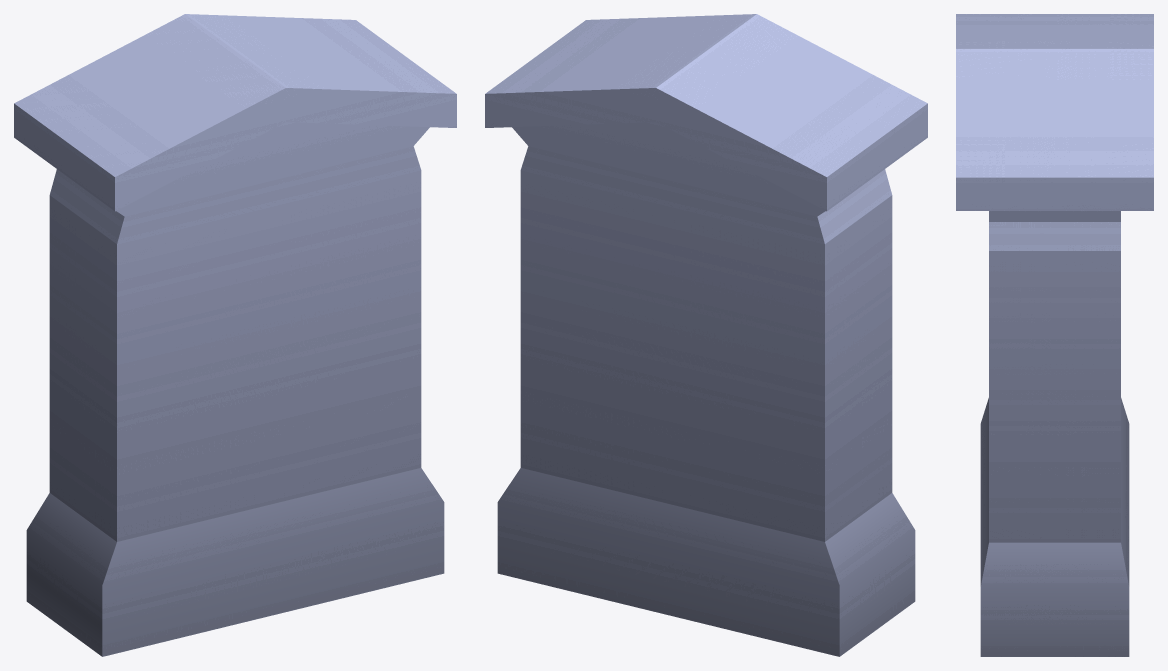
File: gravestone-roof.glb
The picture shows the model from 3 angles, left to right: view 1: azimuth 30°, elevation 25°; view 2: azimuth 150°, elevation 25°; view 3: azimuth 270°, elevation 25°; orthographic projection.
Parts seen in each view (by area): view 1: gravestone-roof; view 2: gravestone-roof; view 3: gravestone-roof.
Boxes of the visible parts, x1,y1,x2,y2 form: gravestone-roof: (14, 14, 456, 656); gravestone-roof: (485, 14, 927, 656); gravestone-roof: (956, 14, 1153, 656).
Size of the model in its own units: 1.17 by 1.75 by 0.5985.
1 material, 1 textured.
